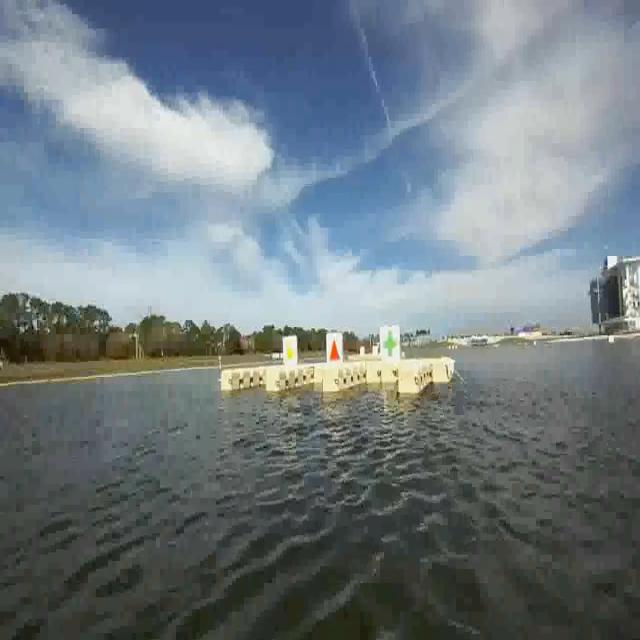blue-cross: (382, 327, 400, 366)
red-dot: (324, 333, 343, 366)
yellow-duck: (282, 333, 298, 362)
